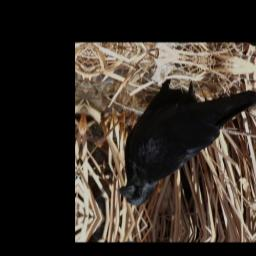Crow: (115, 69, 256, 224)
